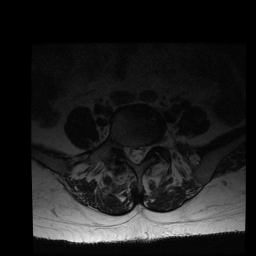CCS_normal: (133, 140, 139, 168)
LFS_stenosis: (148, 139, 157, 155)
LLS_normal: (140, 141, 147, 160)
RFS_stenosis: (117, 139, 125, 154)
RLS_normal: (125, 141, 133, 163)
